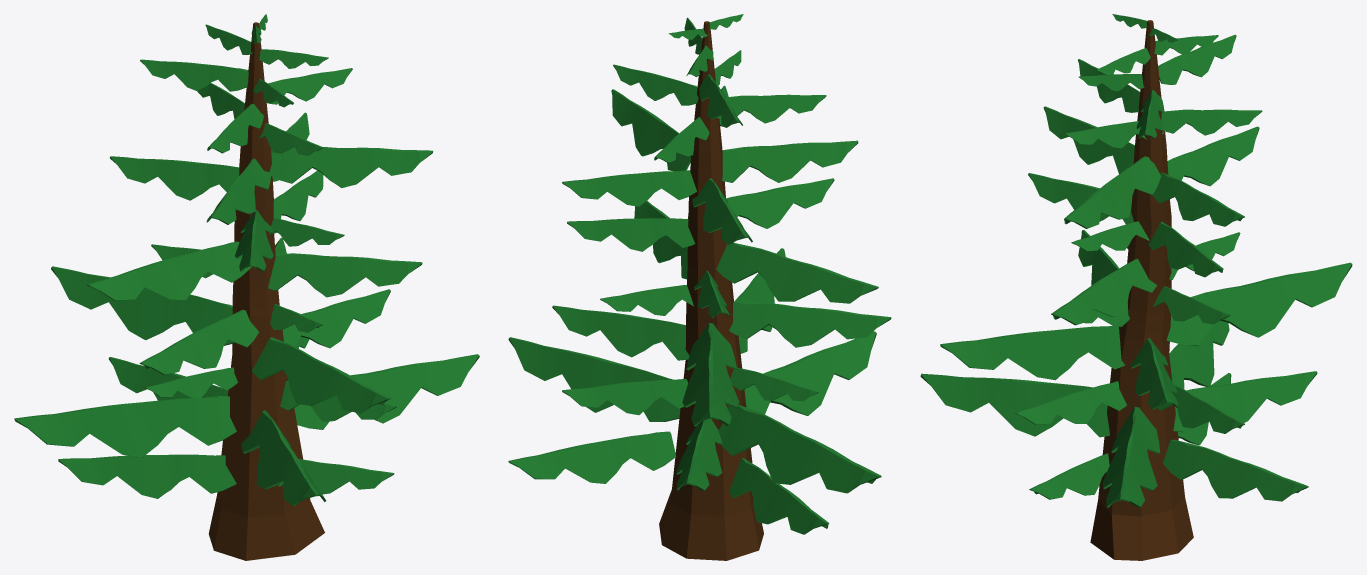
The model's file is Tree8.fbx.
The picture shows the model from 3 angles, left to right: view 1: azimuth 30°, elevation 25°; view 2: azimuth 150°, elevation 25°; view 3: azimuth 270°, elevation 25°; orthographic projection.
Parts seen in each view (by area): view 1: TreeLight4; view 2: TreeLight4; view 3: TreeLight4.
Part boxes in pixels (x1,y1,x2,y2): TreeLight4: (14,14,479,560); TreeLight4: (508,14,891,560); TreeLight4: (920,14,1352,560).
Size of the model in its own units: 4.7 by 5.54 by 4.2.
